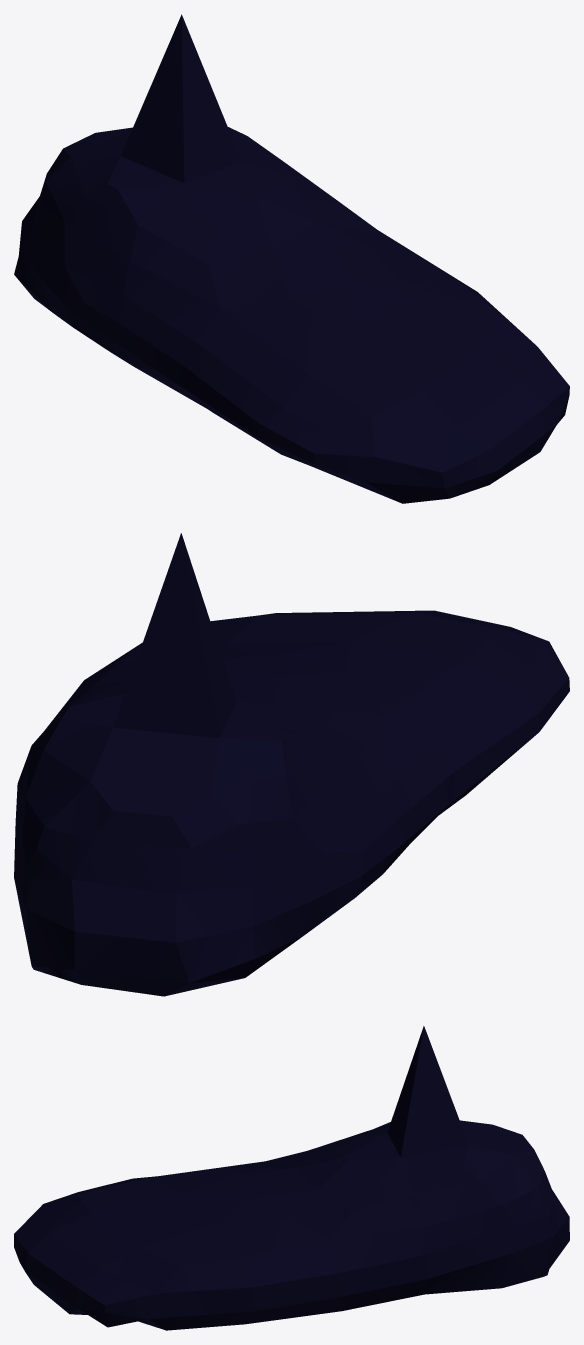
File: left_foot.obj
3 views of the same model, one above another, from view 1: azimuth 30°, elevation 25°; view 2: azimuth 150°, elevation 25°; view 3: azimuth 270°, elevation 25° (orthographic). The views are drawn at different scales.
Visible parts, largest first — view 1: left_foot; view 2: left_foot; view 3: left_foot.
Part boxes in pixels (box(x1,y1,x2,y2)): left_foot: box(14, 14, 569, 503); left_foot: box(14, 533, 569, 996); left_foot: box(14, 1026, 569, 1330).
Size of the model in its own units: 0.7889 by 0.7352 by 1.54.
